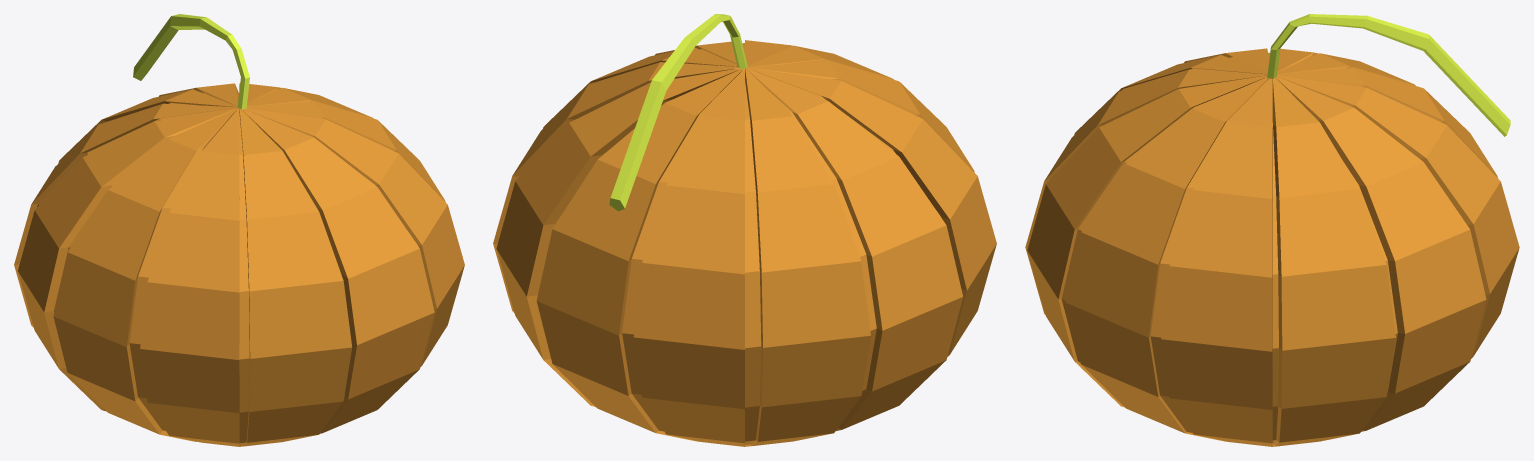
Rendered from pumpkin02.fbx.
3 renders of one model, left to right at view 1: azimuth 30°, elevation 25°; view 2: azimuth 150°, elevation 25°; view 3: azimuth 270°, elevation 25°, orthographic. The views are drawn at different scales.
Parts seen in each view (by area): view 1: Sphere.004; view 2: Sphere.004; view 3: Sphere.004.
Part boxes in pixels (left/top/right/bottom): Sphere.004: left=14, top=14, right=464, bottom=446; Sphere.004: left=493, top=14, right=996, bottom=446; Sphere.004: left=1025, top=14, right=1519, bottom=446.
Size of the model in its own units: 0.2471 by 0.2255 by 0.2471.
